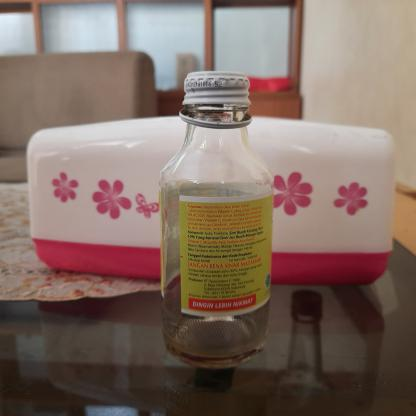bottle: (157, 67, 278, 371)
